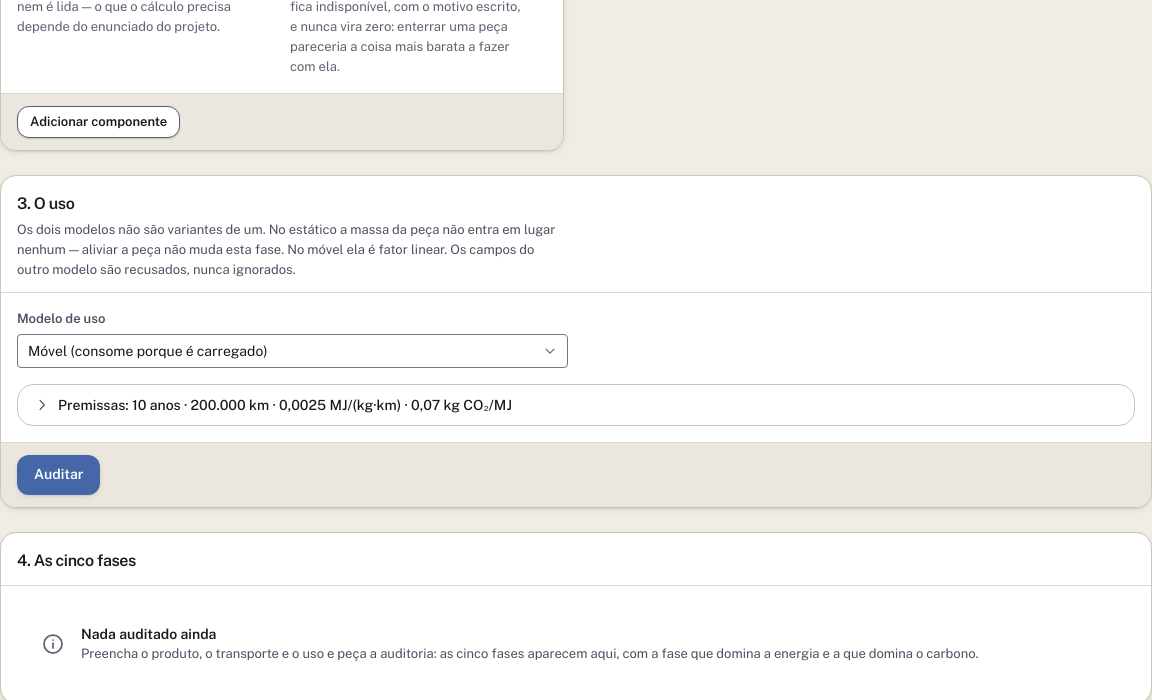
Auditoria ambiental › escreve o motivo no lugar de uma célula vazia
(page scrolled)
Click the button "Auditar" at (59, 474), box [17,454,100,494]
(page scrolled)
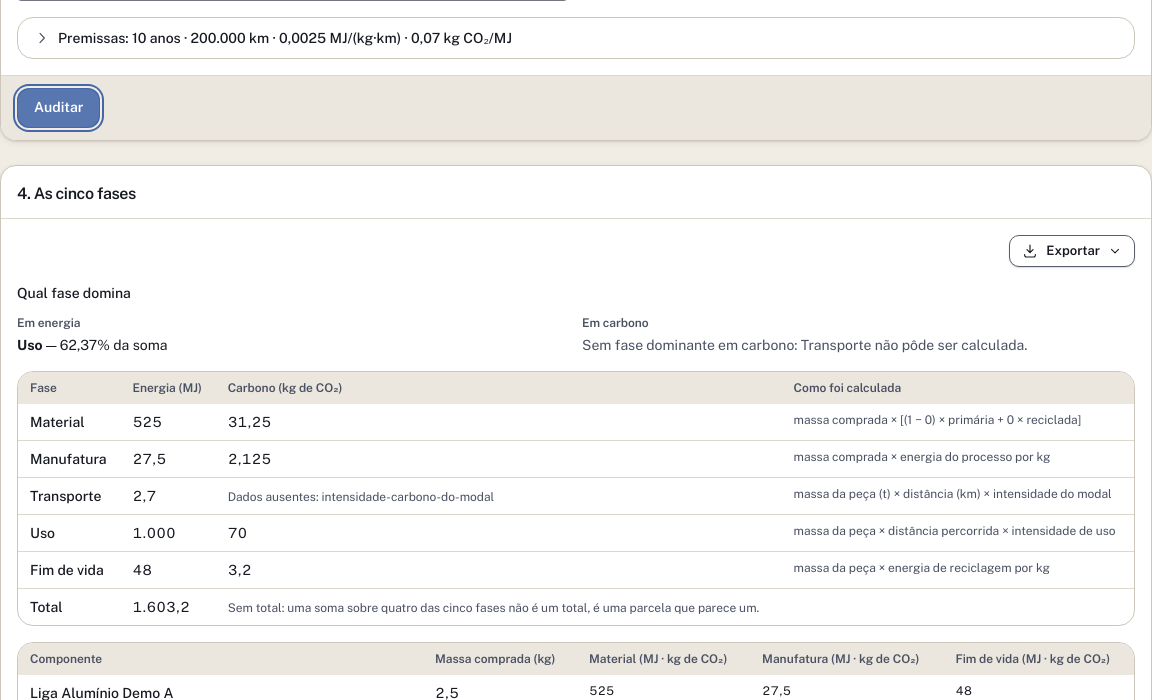
Check: the text "Qual fase domina" is shown, box [17,284,131,300]
Check: the text "Sem fase dominante em carbono" is shown, box [582,336,1027,352]
